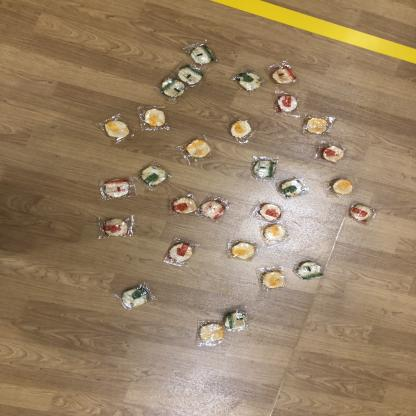green_setoshio: (116, 282, 153, 310), (137, 161, 171, 189), (232, 67, 267, 93), (176, 62, 206, 87), (186, 43, 218, 65), (292, 260, 326, 280), (223, 309, 250, 332), (160, 77, 188, 99), (251, 156, 277, 179), (279, 178, 306, 198)
red_setoshio: (100, 214, 134, 240), (165, 238, 196, 266), (199, 195, 229, 223), (102, 176, 134, 200), (316, 142, 347, 164), (273, 92, 301, 116), (269, 64, 298, 86), (172, 193, 198, 217), (348, 202, 376, 224), (258, 202, 284, 221)
yellow_setoshio: (100, 115, 134, 142), (197, 320, 225, 348), (183, 137, 212, 162), (304, 114, 335, 136), (228, 240, 258, 262), (227, 117, 254, 141), (260, 266, 287, 290), (141, 106, 169, 129), (329, 176, 357, 196), (263, 224, 290, 244)
